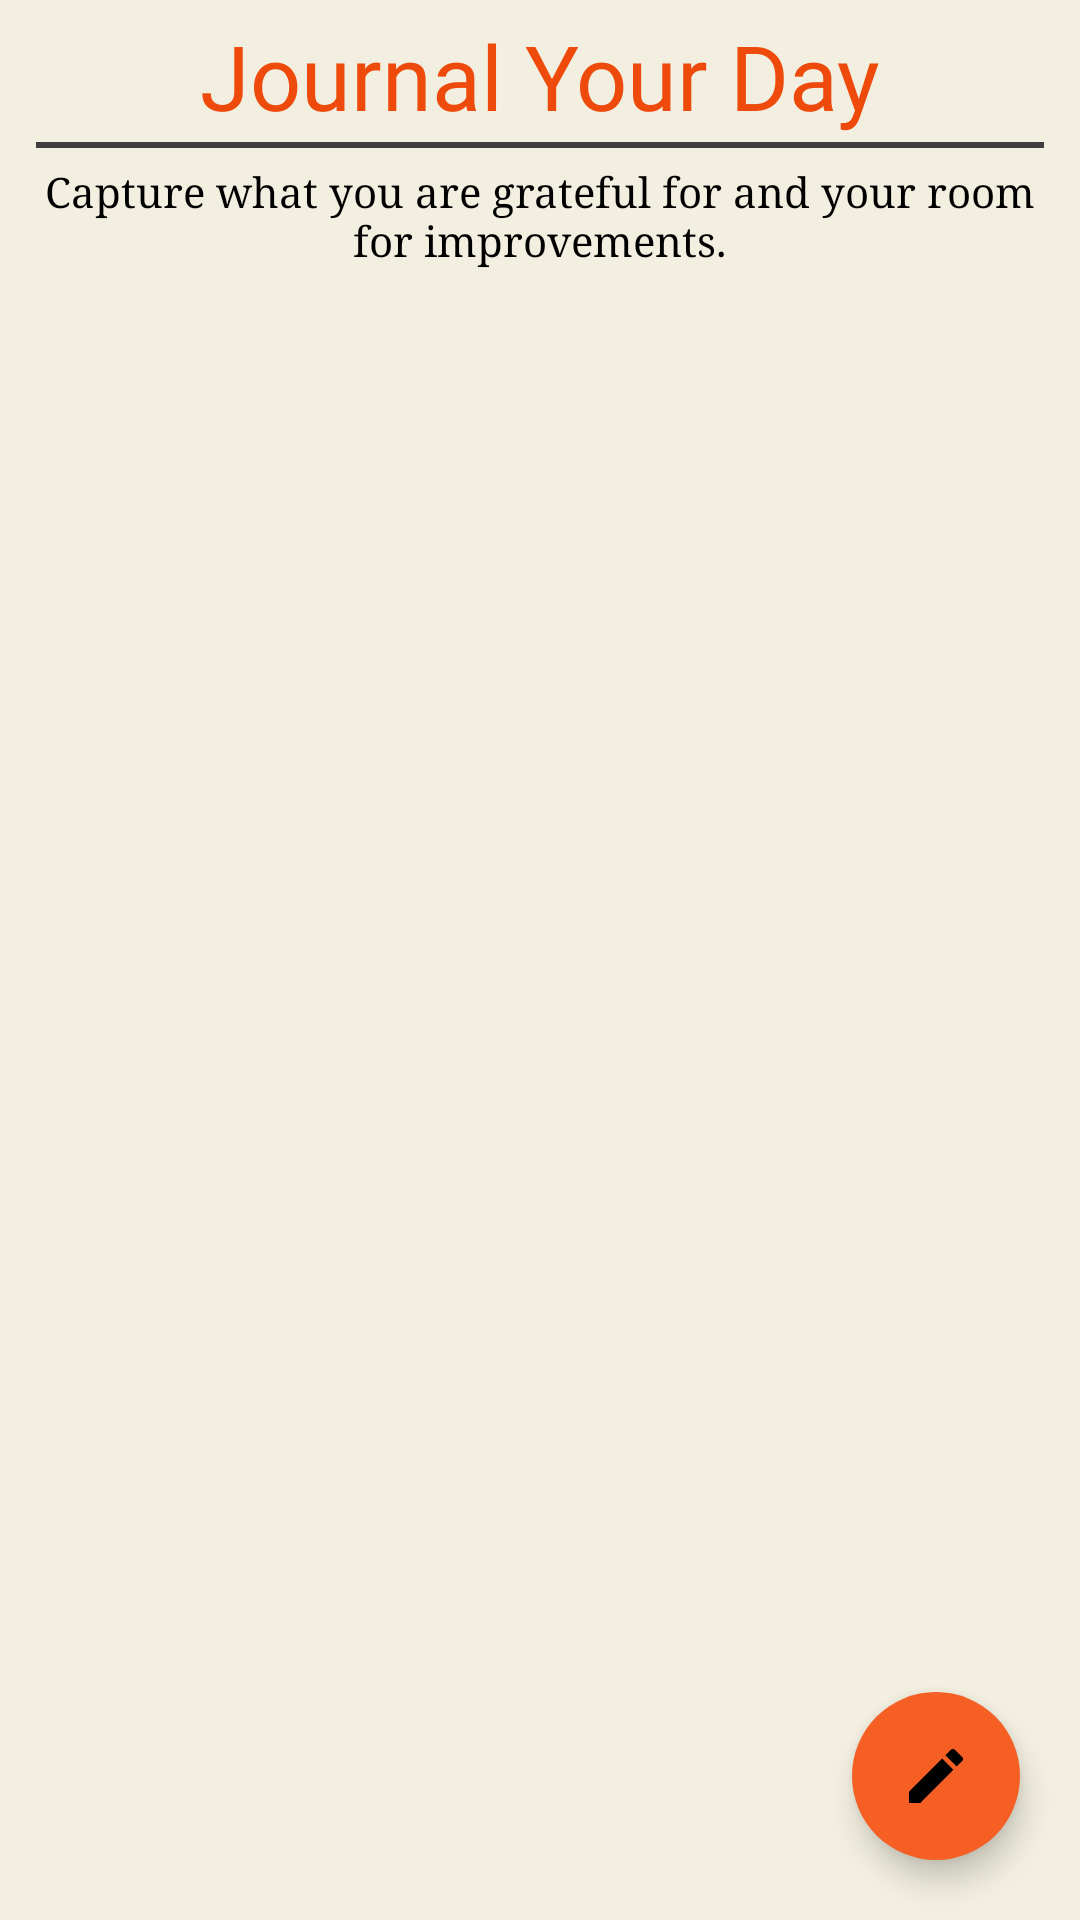

Where to tap for icons on this 1080*1920 app screen, as [x,y]:
edit: [936,1776]
